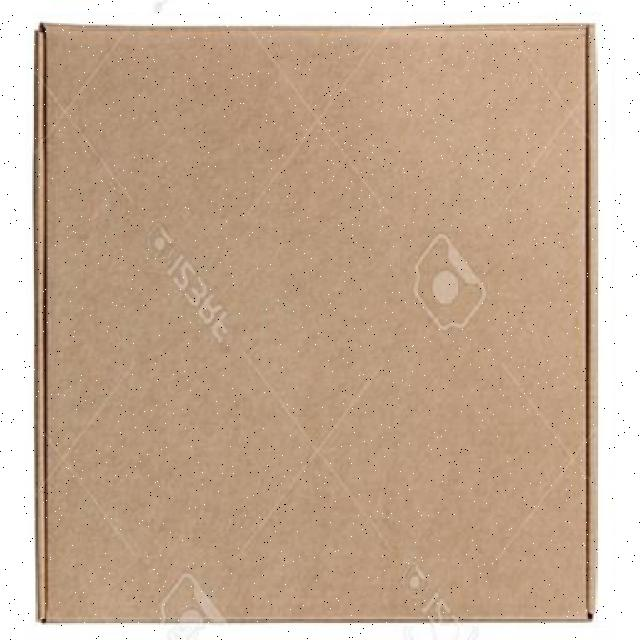normal: (25, 16, 612, 626)
